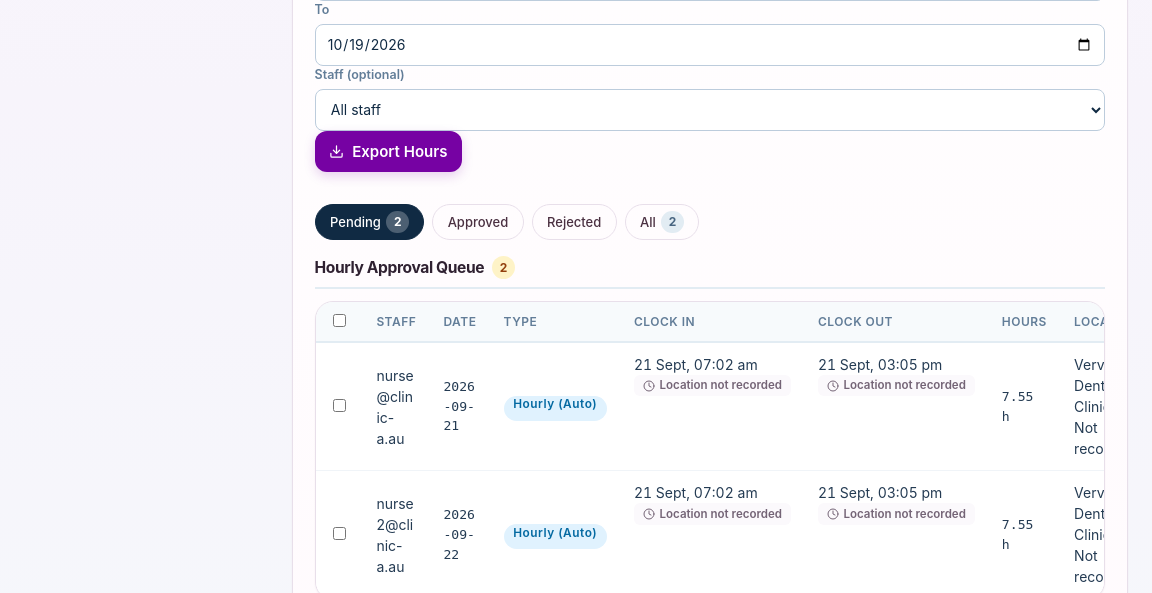
Test: ApprovalQueue — bulk rejection flow › bulk rejection is blocked when any selected row has no rejection reason
(page scrolled)
expect the cell "nurse@clinic-a.au" is shown: met, box [363, 342, 430, 471]
Note: Select both, type a note only for e1
Click the checkbox named "select all timesheets" at (340, 321), box [333, 314, 346, 327]
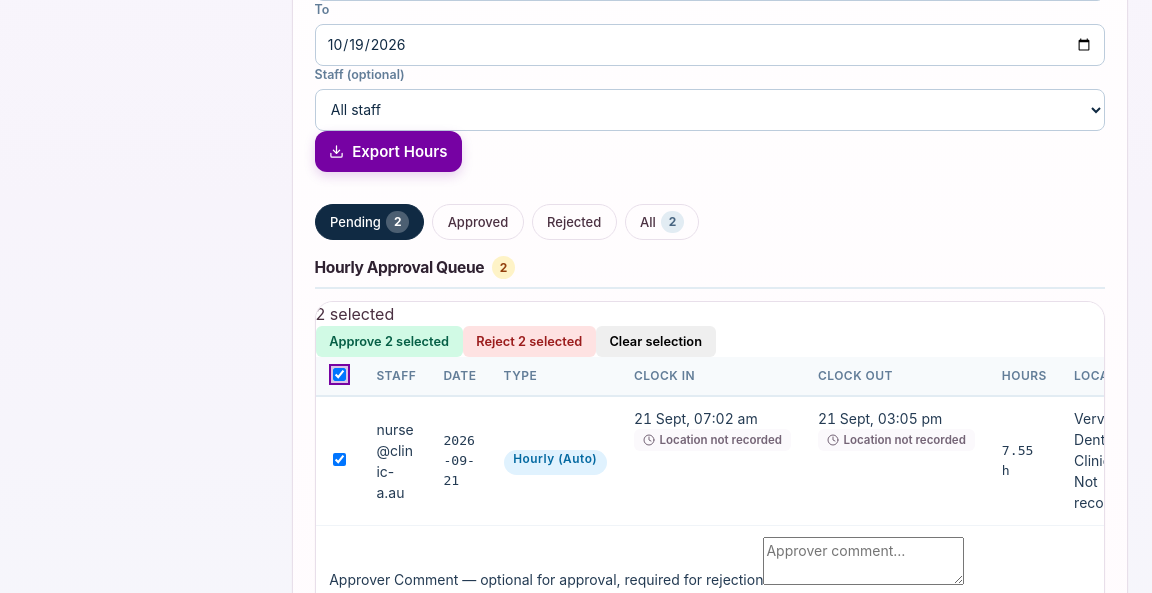
Type "Clock times don't add up" into the text box labelled "Approver Comment" at (864, 561), box [763, 537, 964, 585]
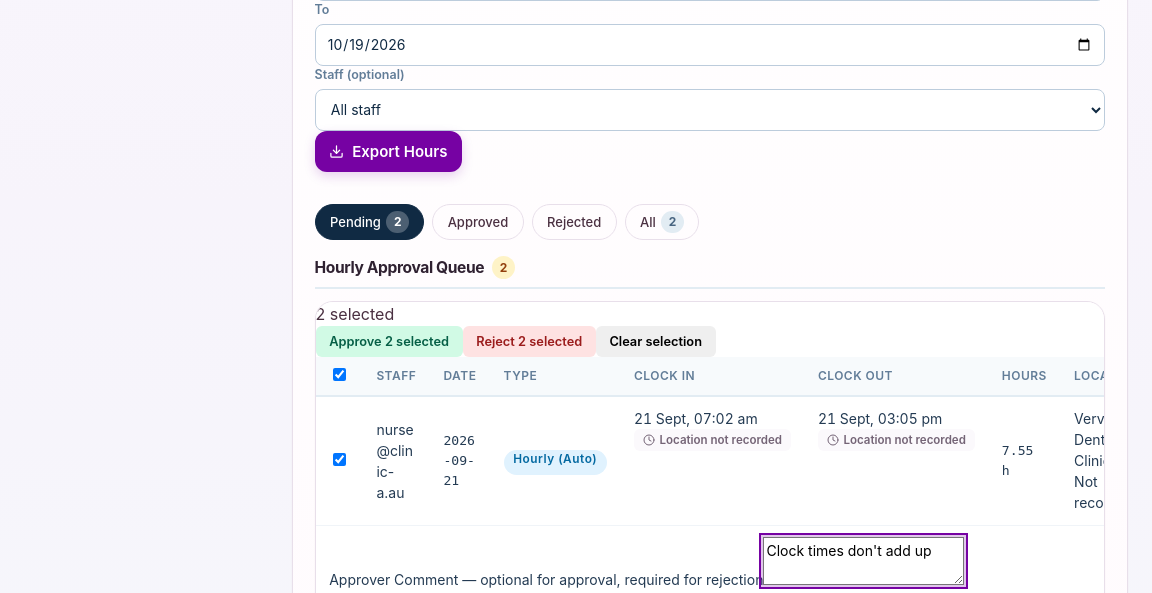
Note: Click Reject — e2 has no note → should be blocked
Click the button "Reject 2 selected" at (529, 342), box [463, 326, 596, 357]
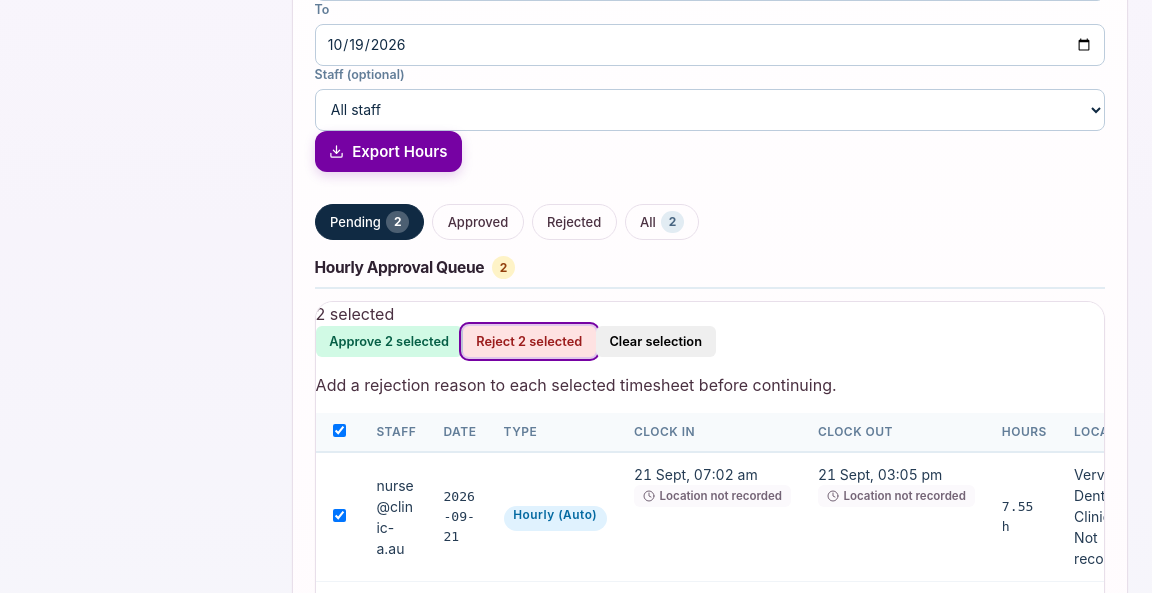
expect the text "Add a rejection reason to each selected timesheet before continuing." is shown: met, box [316, 375, 837, 395]
